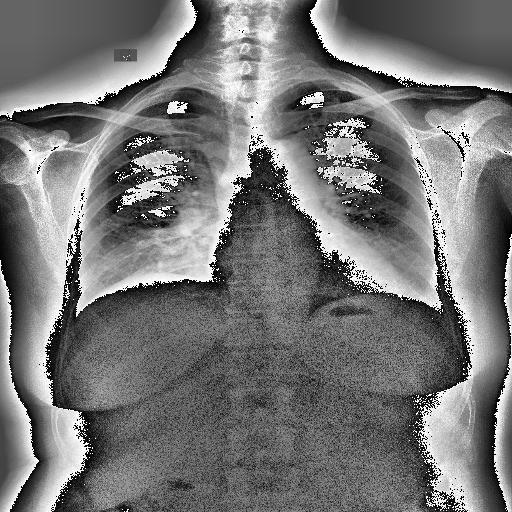0- Aortic enlargement: (262, 139, 320, 195), (253, 140, 316, 189), (262, 141, 320, 193)
11- Pleural thickening: (360, 90, 390, 110)
3- Cardiomegaly: (205, 245, 411, 305), (209, 244, 411, 304), (204, 256, 412, 296)
